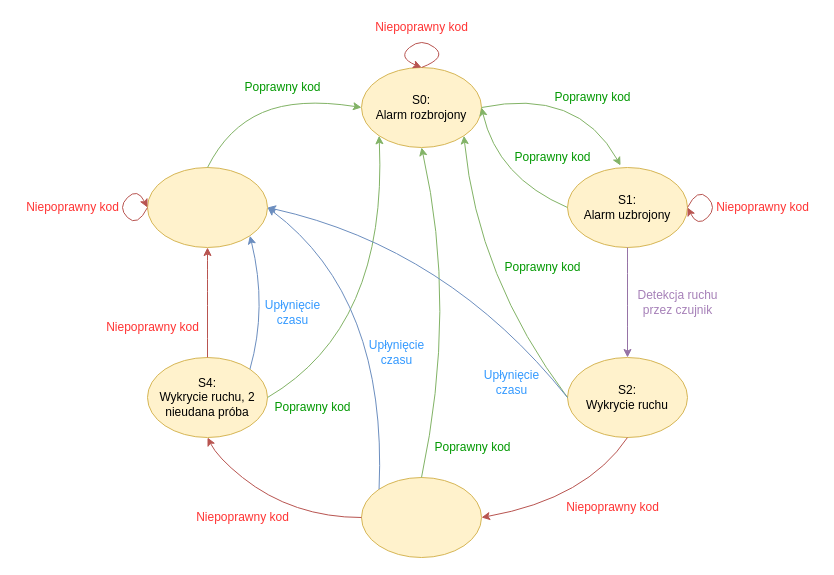
The diagram is 834 pixels wide and 575 high, and some of its shapes have lost their labels. The shapes that lost their labels are listed below. From the top down, each one's centre as x and y in pixels, then its label:
At point (207, 207): "S5: Alarm uruchomiony".
At point (421, 517): "S3: Wykrycie ruchu, 1 nieudana próba".
